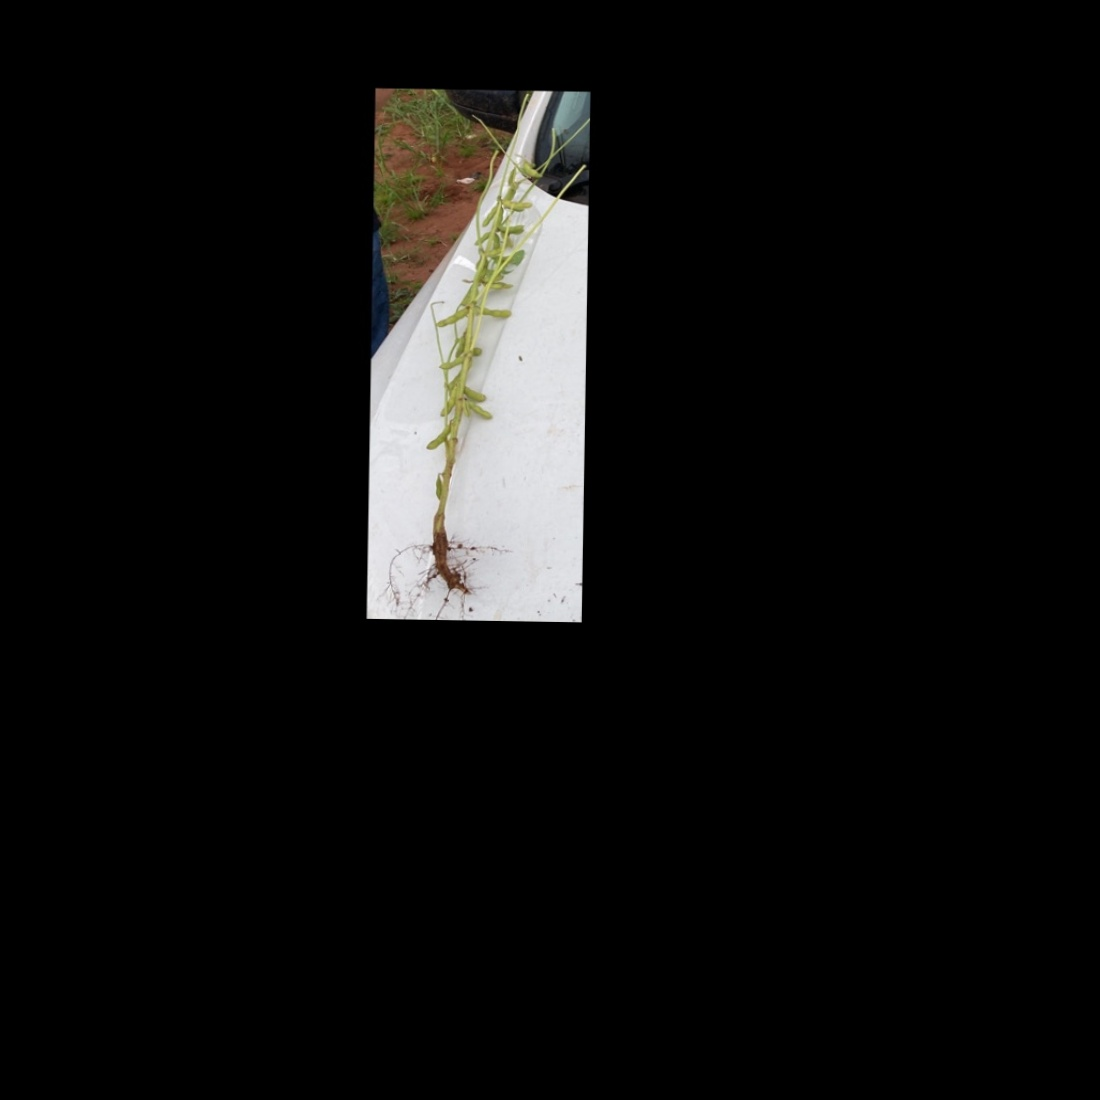pod: (418, 417, 452, 452), (433, 302, 471, 331), (465, 399, 495, 421), (438, 352, 465, 373), (461, 384, 487, 403), (479, 305, 512, 319), (432, 474, 444, 501)
soy: (419, 118, 544, 589)
